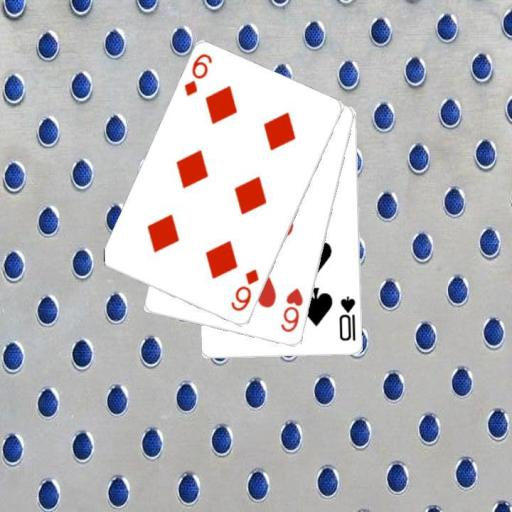10S: (336, 293, 358, 343)
6D: (228, 266, 261, 314), (181, 51, 214, 98)
6H: (277, 285, 305, 334)
